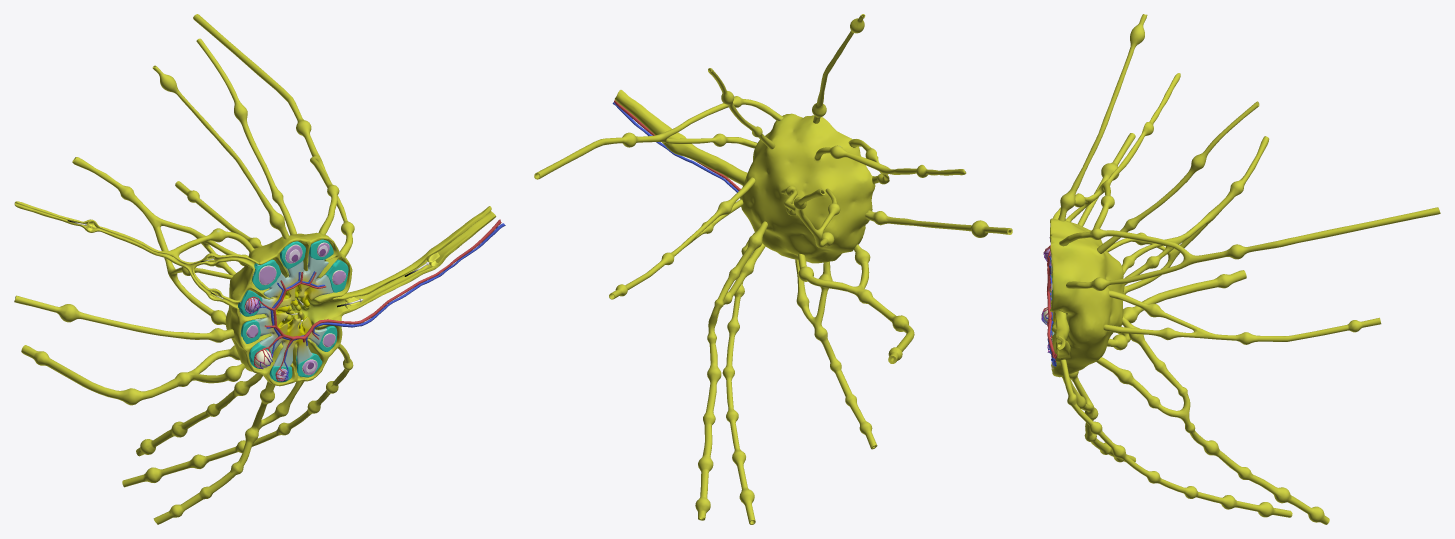
The model's file is Lop11_Hệ miễn dịch người_Tab1_Hạch bạch huyết.pbr.glb.
3 renders of one model, left to right at view 1: azimuth 30°, elevation 25°; view 2: azimuth 150°, elevation 25°; view 3: azimuth 270°, elevation 25°, orthographic. The views are drawn at different scales.
Visible parts, largest first — view 1: PM3D_Sphere3D46, PM3D_Sphere3D50, PM3D_Sphere3D56, PM3D_Sphere3D36, PM3D_Sphere3D63_copy1; view 2: PM3D_Sphere3D46, PM3D_Sphere3D56; view 3: PM3D_Sphere3D46, PM3D_Sphere3D56.
Boxes of the visible parts, x1=… form: PM3D_Sphere3D46: x1=14, y1=14, x2=496, y2=524; PM3D_Sphere3D50: x1=238, y1=239, x2=348, y2=382; PM3D_Sphere3D56: x1=244, y1=219, x2=505, y2=381; PM3D_Sphere3D36: x1=246, y1=243, x2=345, y2=380; PM3D_Sphere3D63_copy1: x1=245, y1=242, x2=346, y2=379; PM3D_Sphere3D46: x1=534, y1=14, x2=1012, y2=524; PM3D_Sphere3D56: x1=612, y1=100, x2=740, y2=192; PM3D_Sphere3D46: x1=1049, y1=14, x2=1440, y2=524; PM3D_Sphere3D56: x1=1041, y1=245, x2=1056, y2=366.
Bounding box in the file's own units: 21.72 × 22.27 × 16.68.
Materials: 22 (14 with a texture image).
